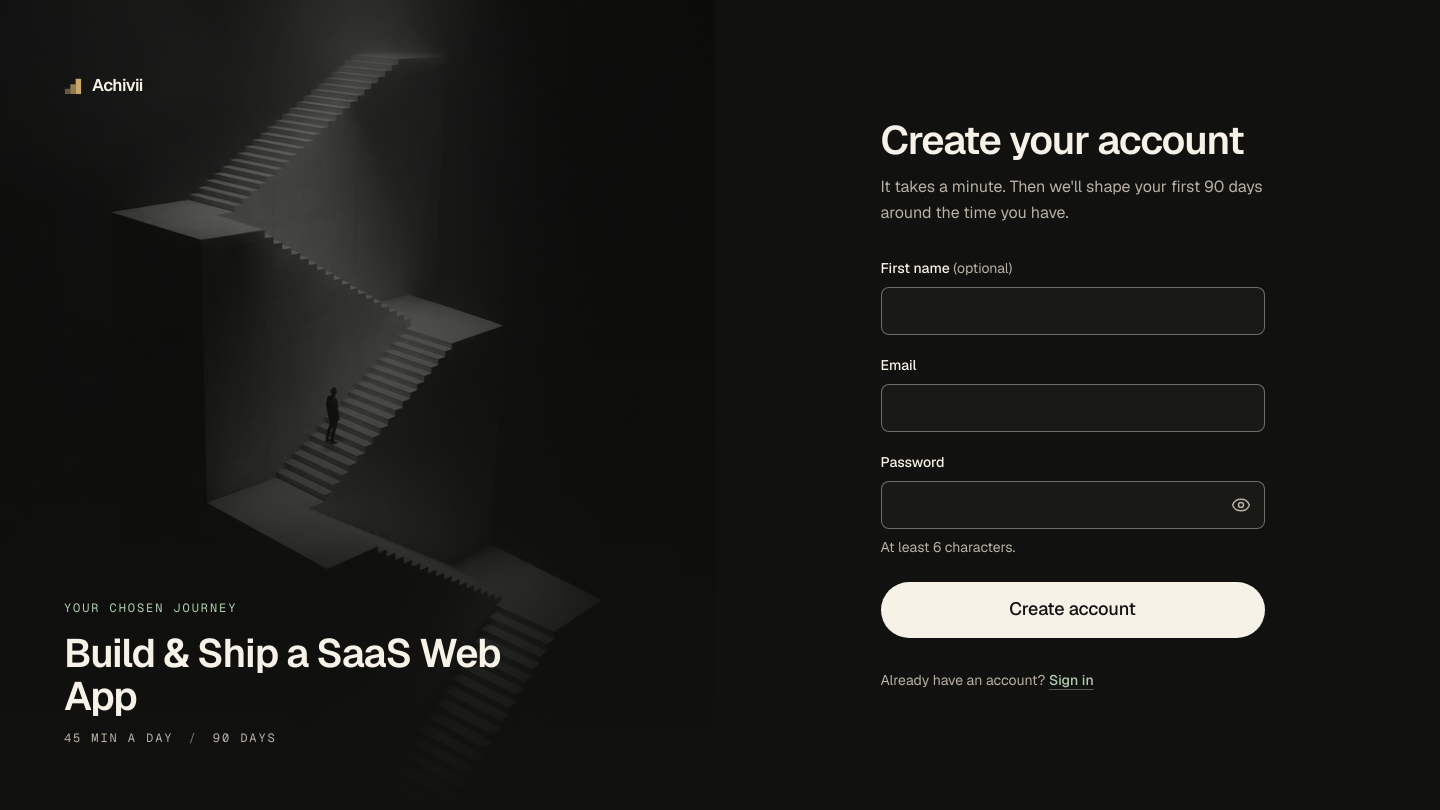
sign-up and sign-in screens › explains a duplicate email and links to sign-in with the pathway kept
Type "mo@example.com" into the field labelled "Email".
click(1072, 408); type("mo@example.com")  # box top-left (880, 384), bottom-right (1264, 432)
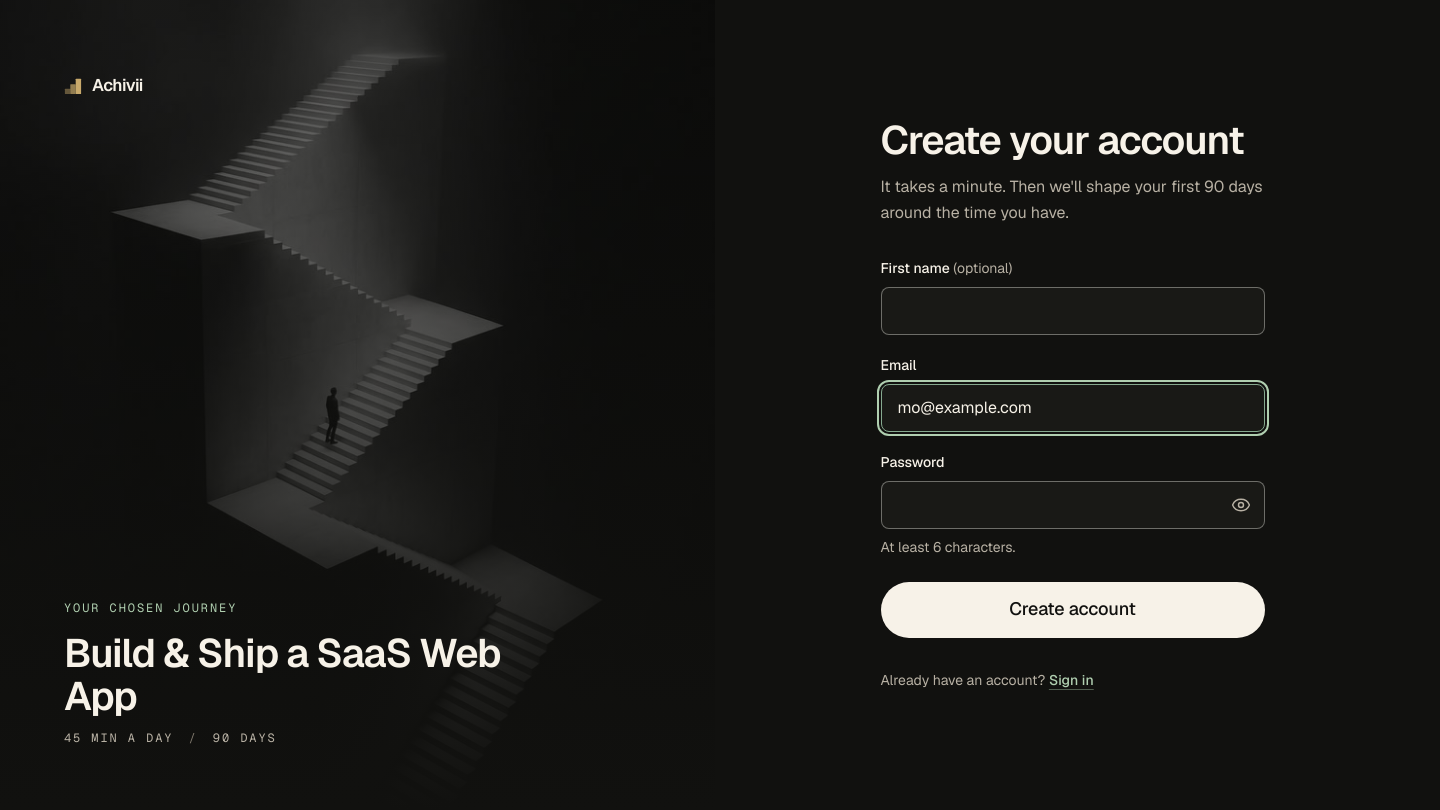
Type "secret1" into the password field labelled "Password".
click(1072, 504); type("secret1")  # box top-left (880, 480), bottom-right (1264, 528)
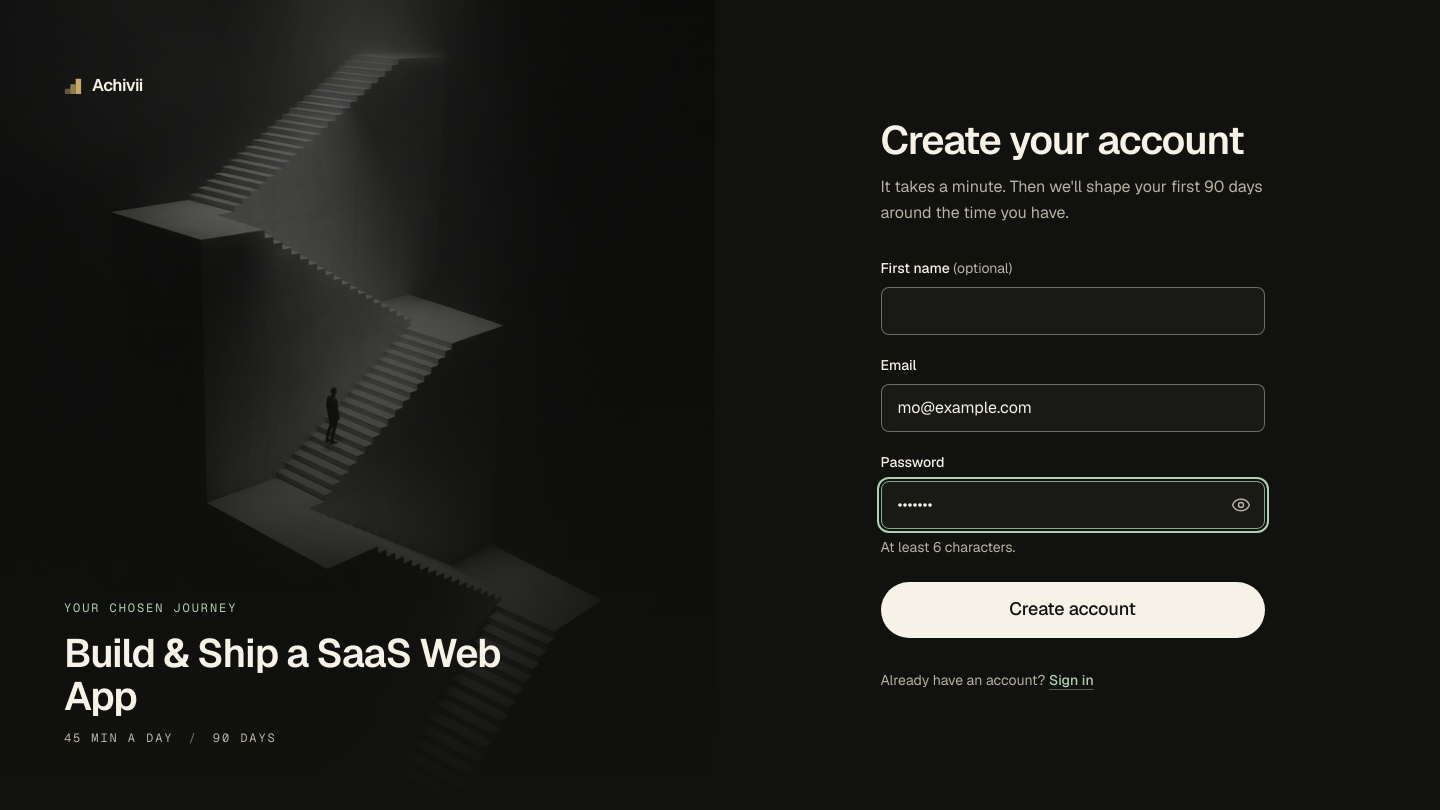
Click the button "Create account".
click(1072, 610)  # box top-left (880, 582), bottom-right (1264, 638)
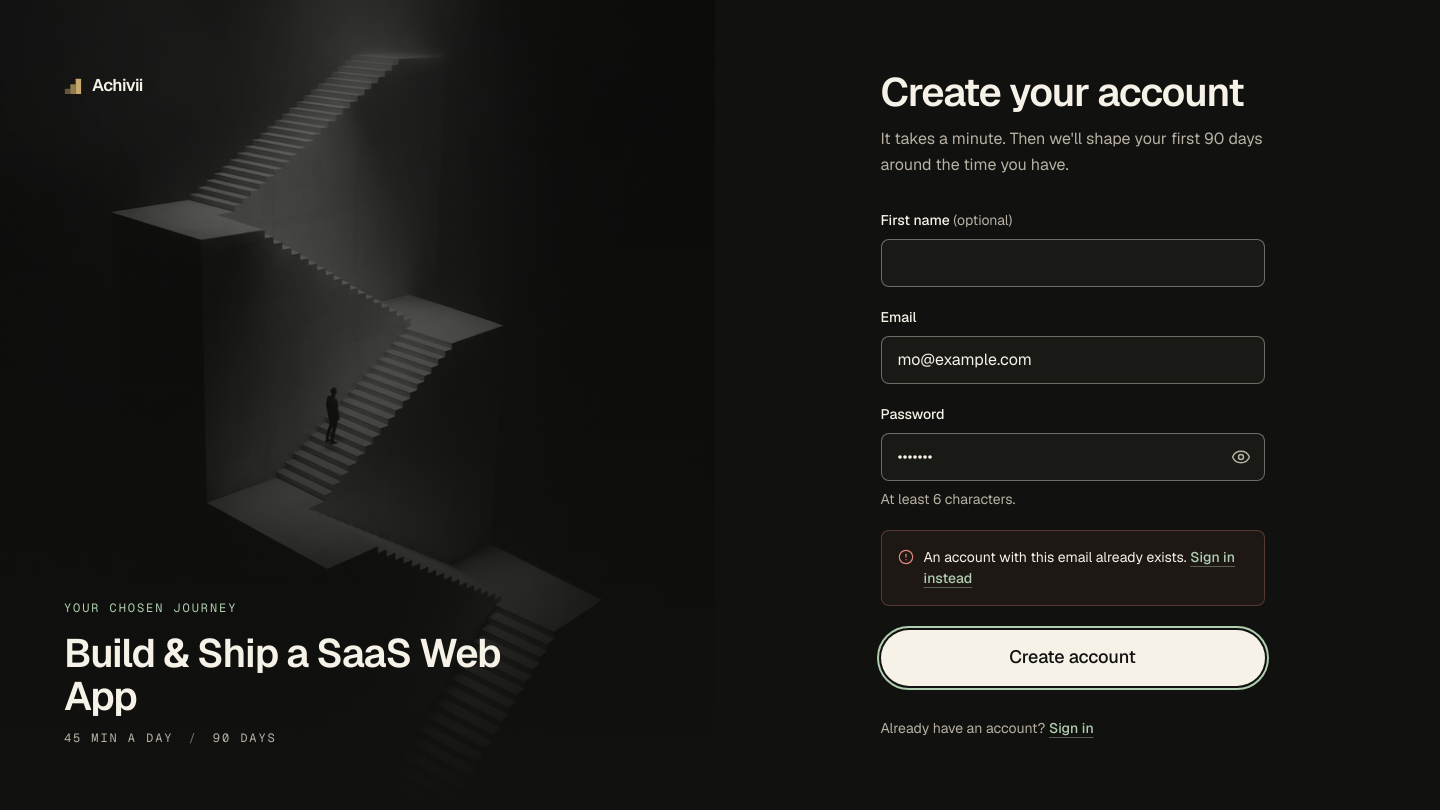
expect the message shows "An account with this email already exists.": met, box top-left (924, 548), bottom-right (1187, 566)
